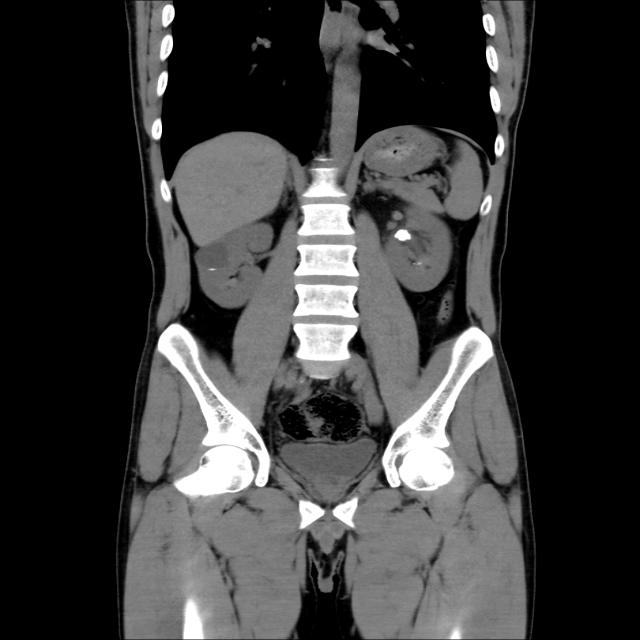kidneystone: (395, 229, 411, 241)
